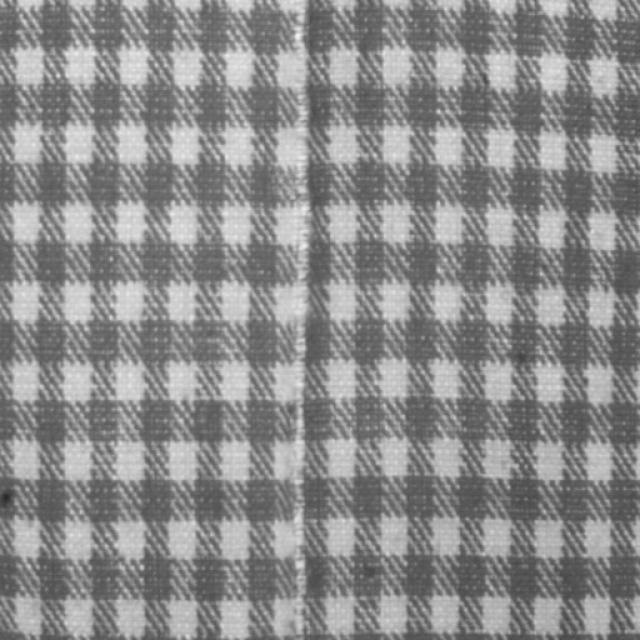Thread-Defect: (291, 4, 314, 639)
